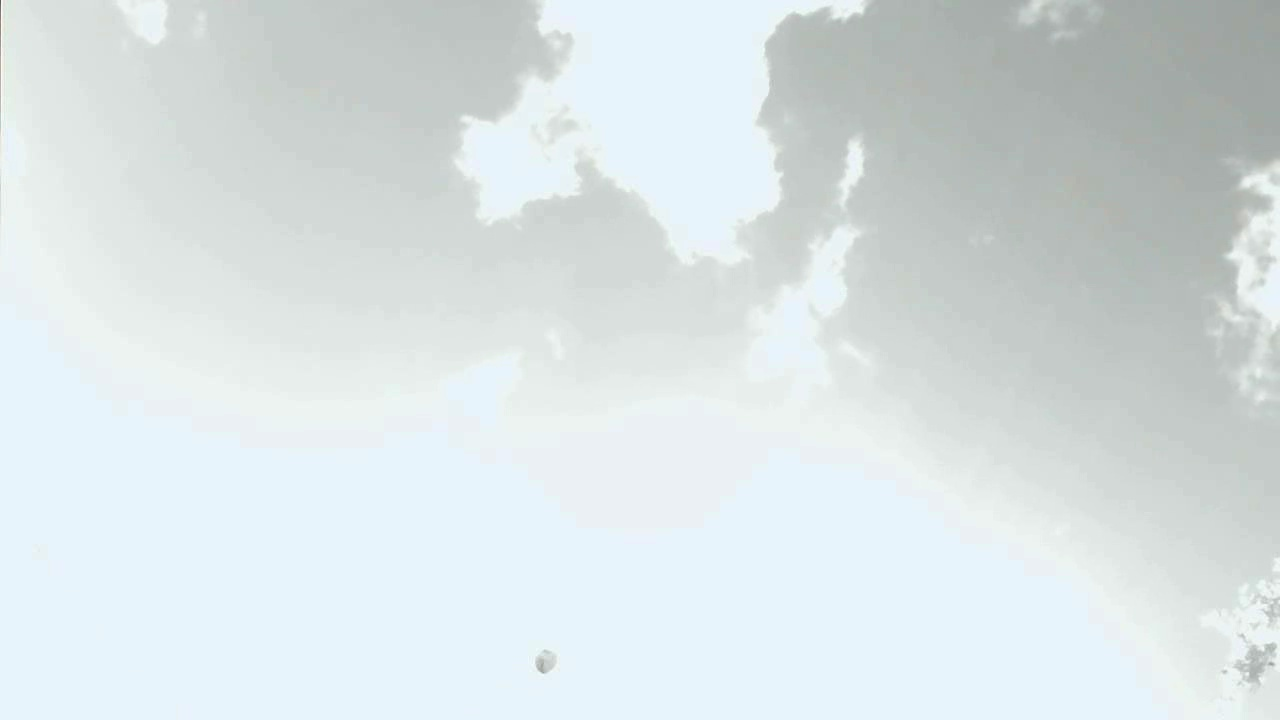Football-Spotter: (535, 650, 555, 673)
